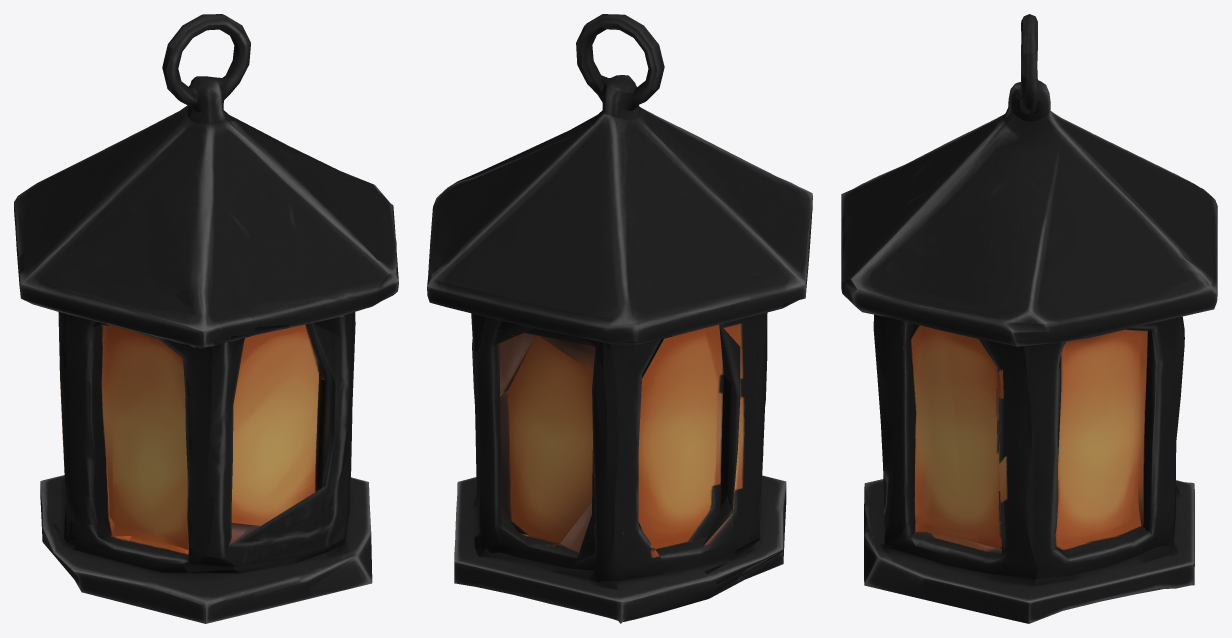
Rendered from wh-lantern-hang.glb.
3 views of the same model, side by side, from view 1: azimuth 30°, elevation 25°; view 2: azimuth 150°, elevation 25°; view 3: azimuth 270°, elevation 25° (orthographic).
Size of the model in its own units: 1.37 by 1.9 by 1.23.
Materials: 1 (1 with a texture image).
